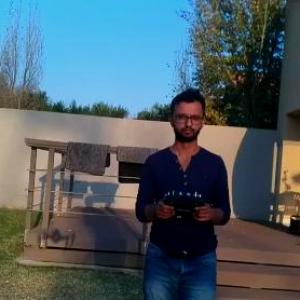follow: (130, 80, 233, 299)
